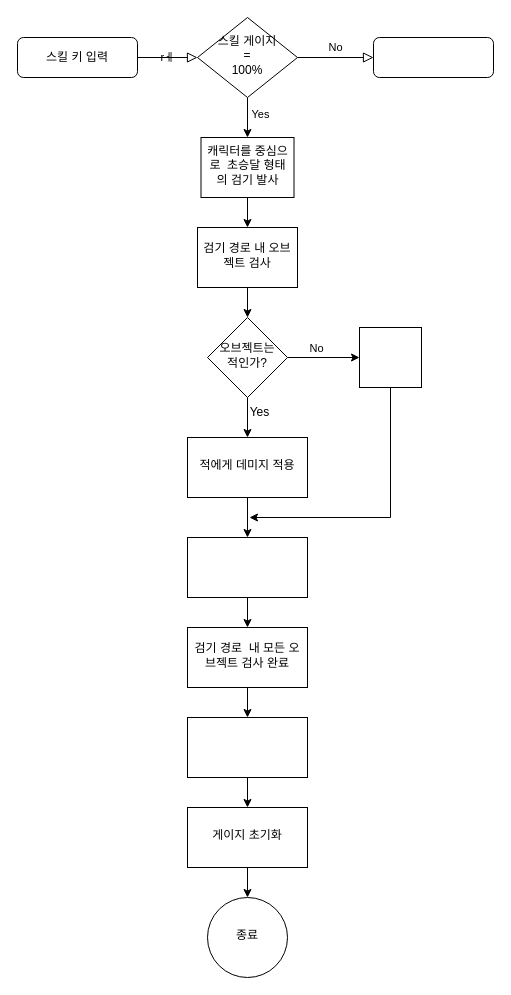
The diagram is 511 pixels wide and 995 high, and some of its shapes have lost their labels. The shapes that lost their labels are listed below. From the top down, each one's box as (x1, y1, x2, y2) in pixels, then its label:
(372, 36, 494, 78): 발동 안됨
(358, 326, 422, 388): 탄막 제거
(186, 536, 308, 598): 다음 오브젝트 검사
(186, 716, 308, 778): 검기 이펙트 제거
